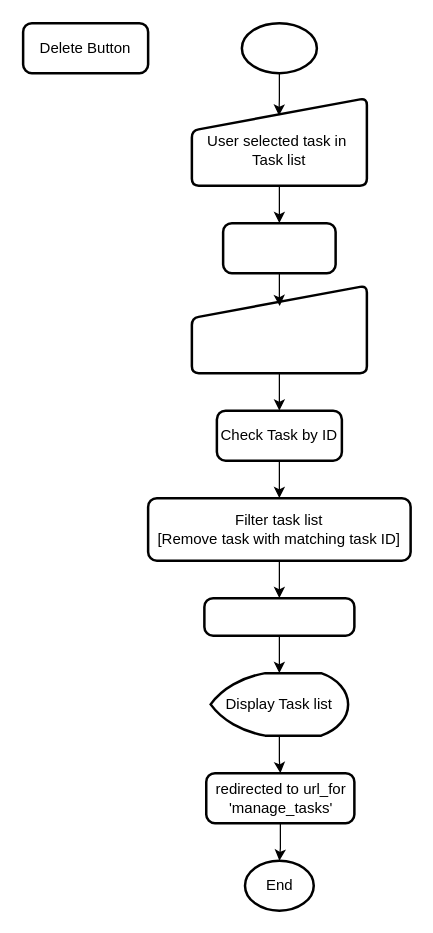
Some shapes in this 433 by 933 pixel diagram are drawn without their labels. Each missing label, with the box of its shape:
Access global tasks list: (221, 221, 336, 274)
Start: (240, 21, 318, 74)
Updated Task listed: (202, 596, 355, 636)
User click Delete button Post Request: (190, 284, 368, 374)
